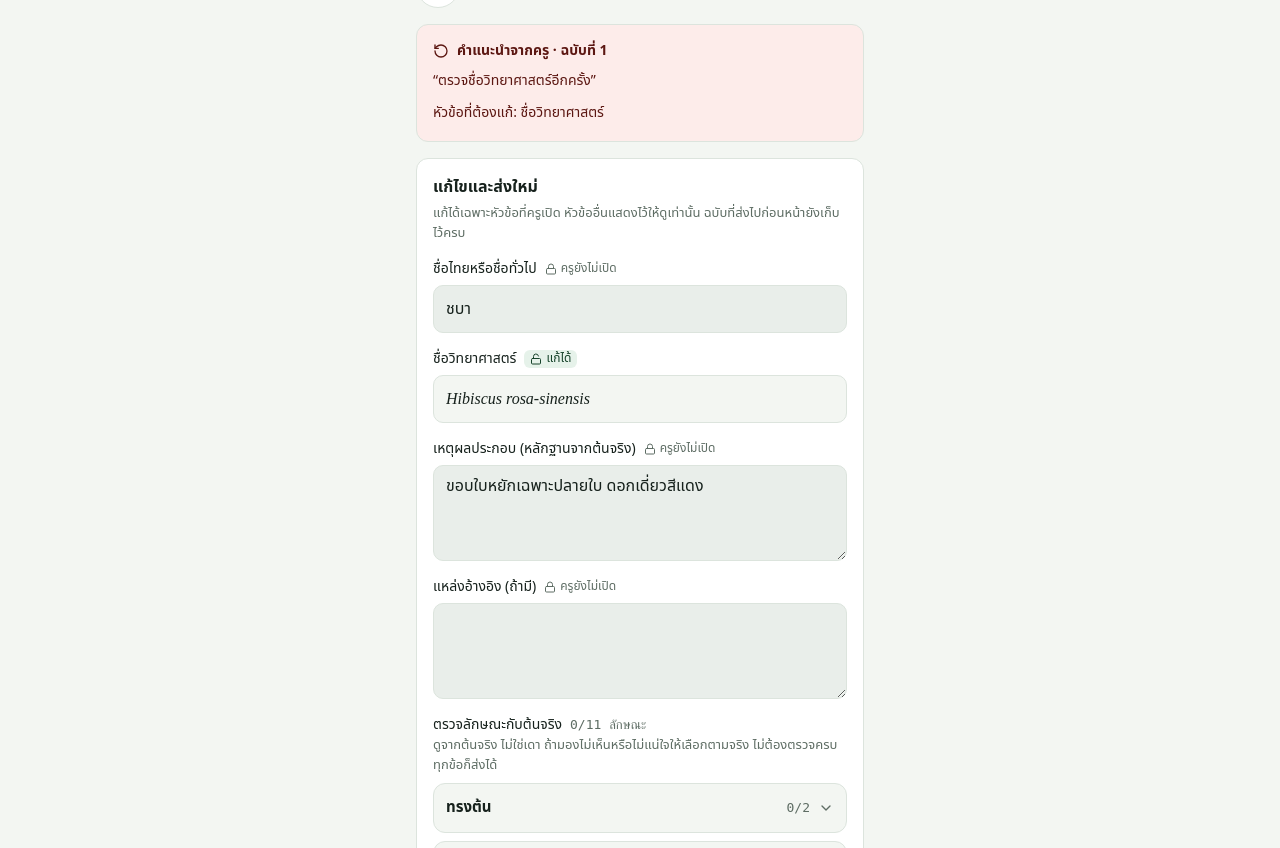
Test case: RevisionScreen › saves the revision, then resubmits once with one client submission ID
Replace the text in the field labelled "ชื่อวิทยาศาสตร์ แก้ได้" with "Hibiscus schizopetalus" at (640, 399), box [433,375,847,423]
(page scrolled)
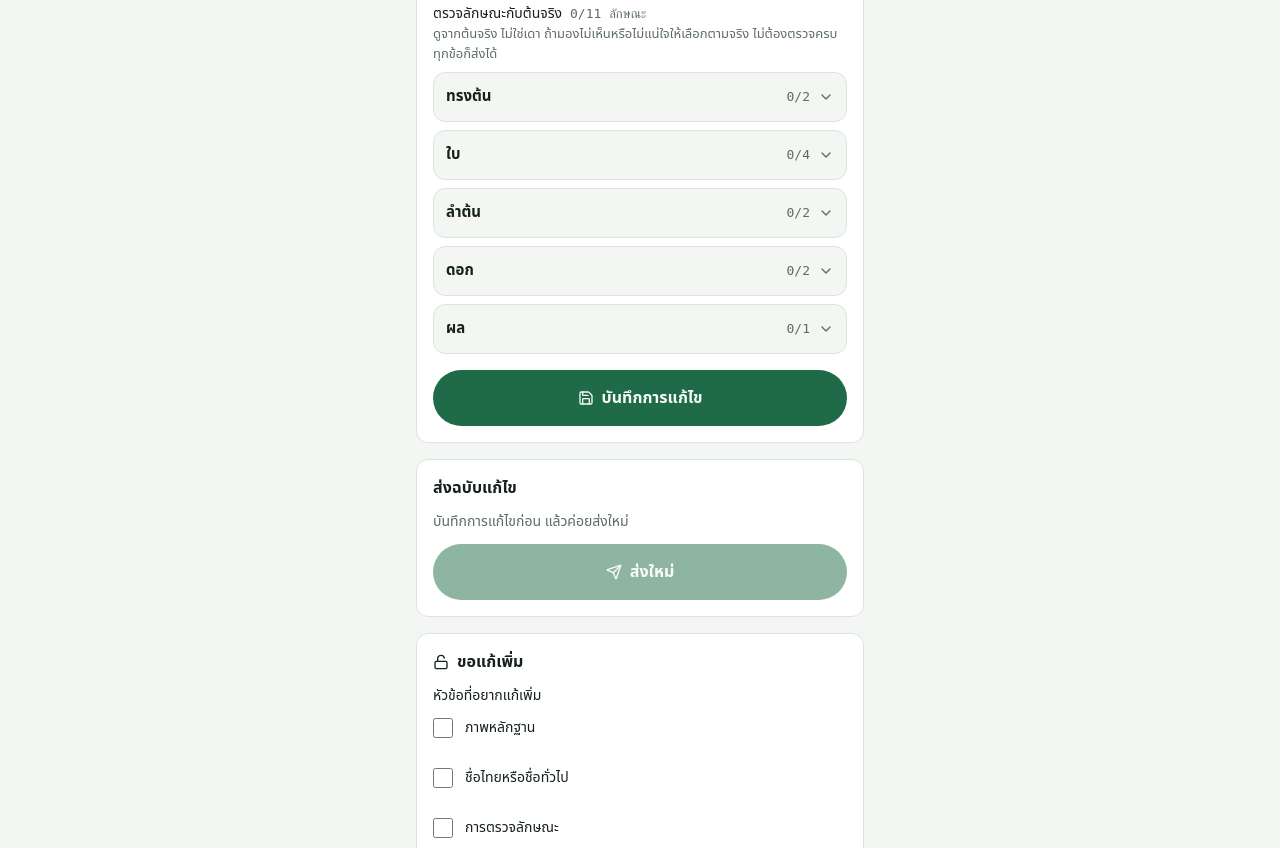
Expected: the text "บันทึกการแก้ไขก่อน แล้วค่อยส่งใหม่" is shown, [433,511,629,532]
Click the button "บันทึกการแก้ไข" at (640, 398), box [433,370,847,426]
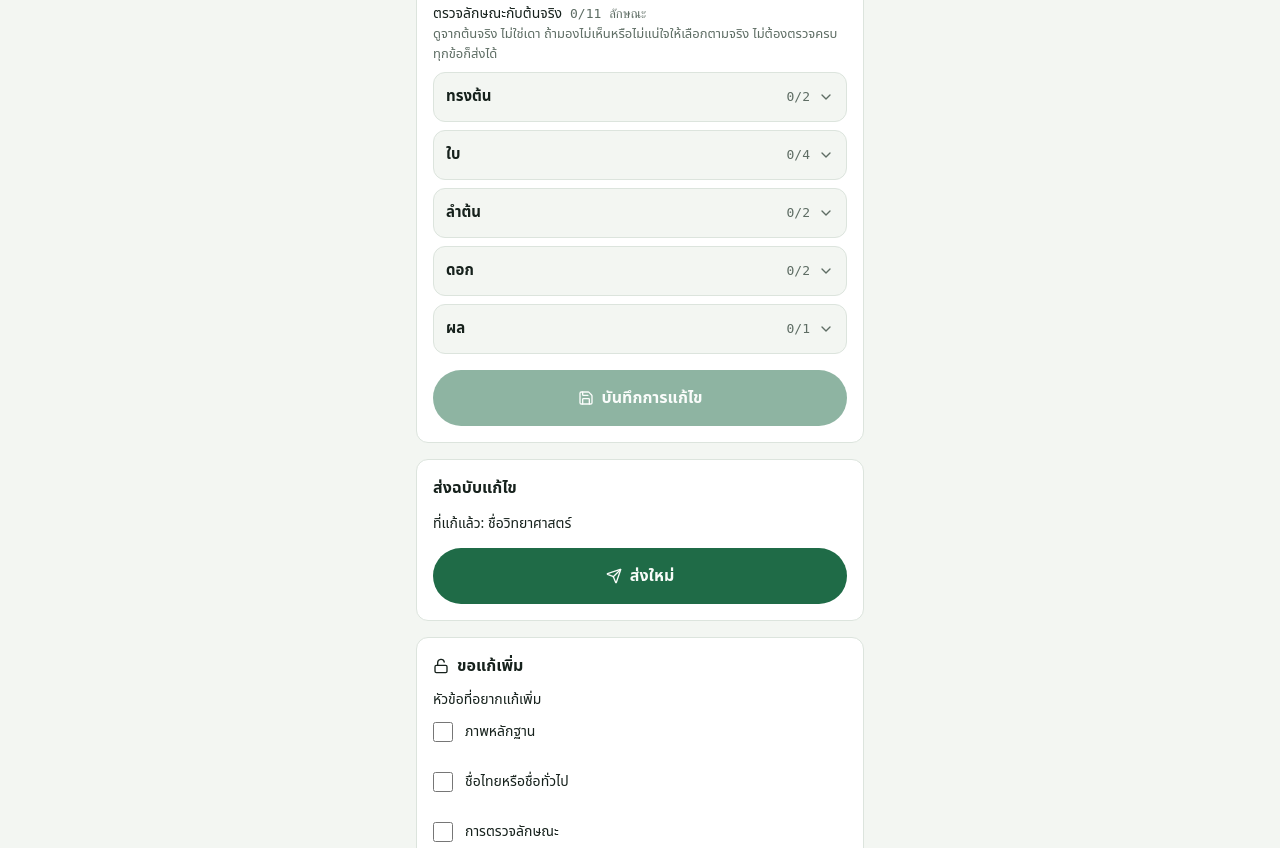
Expected: the text "ที่แก้แล้ว: ชื่อวิทยาศาสตร์" is shown, [433,513,571,534]
Click the button "ส่งใหม่" at (640, 576), box [433,548,847,604]
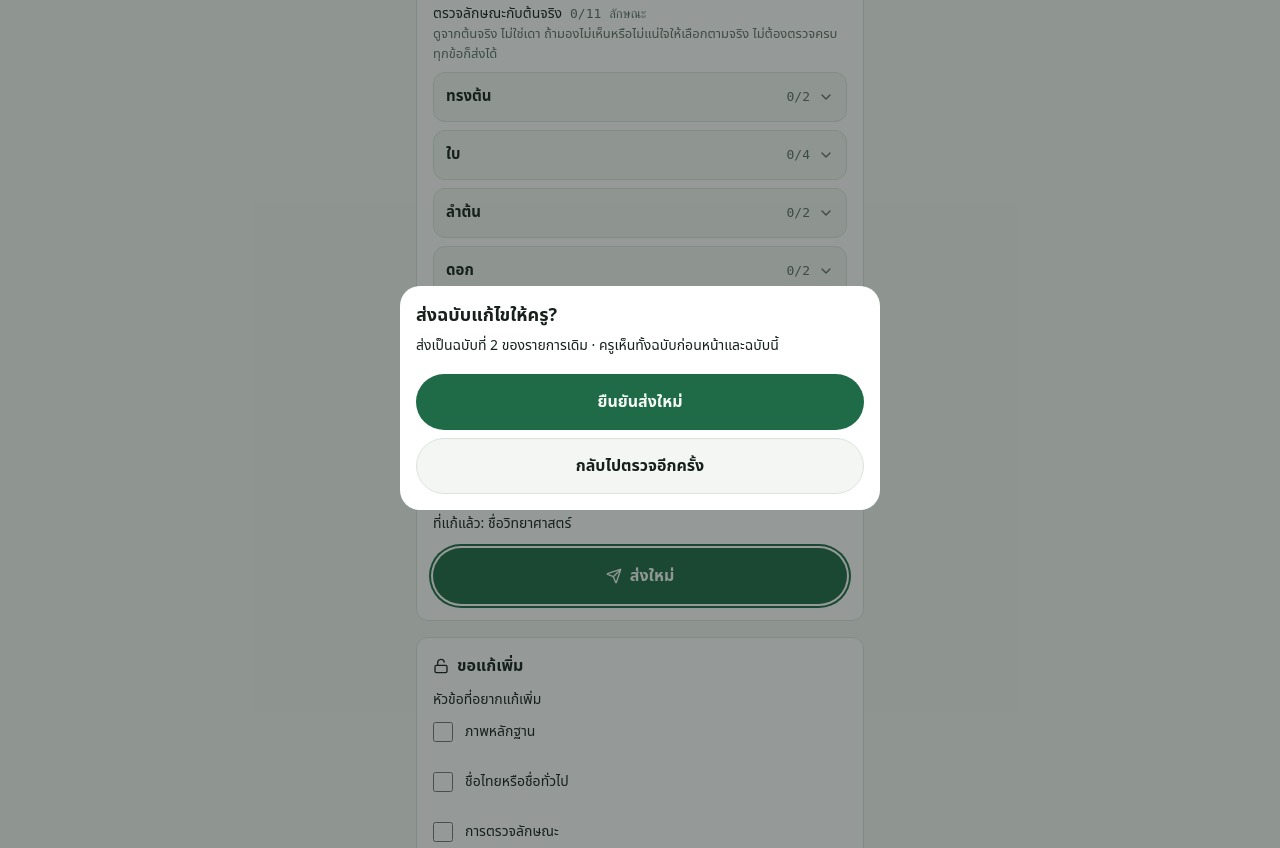
Click the button "ยืนยันส่งใหม่" at (640, 402), box [416,374,864,430]
(page scrolled)
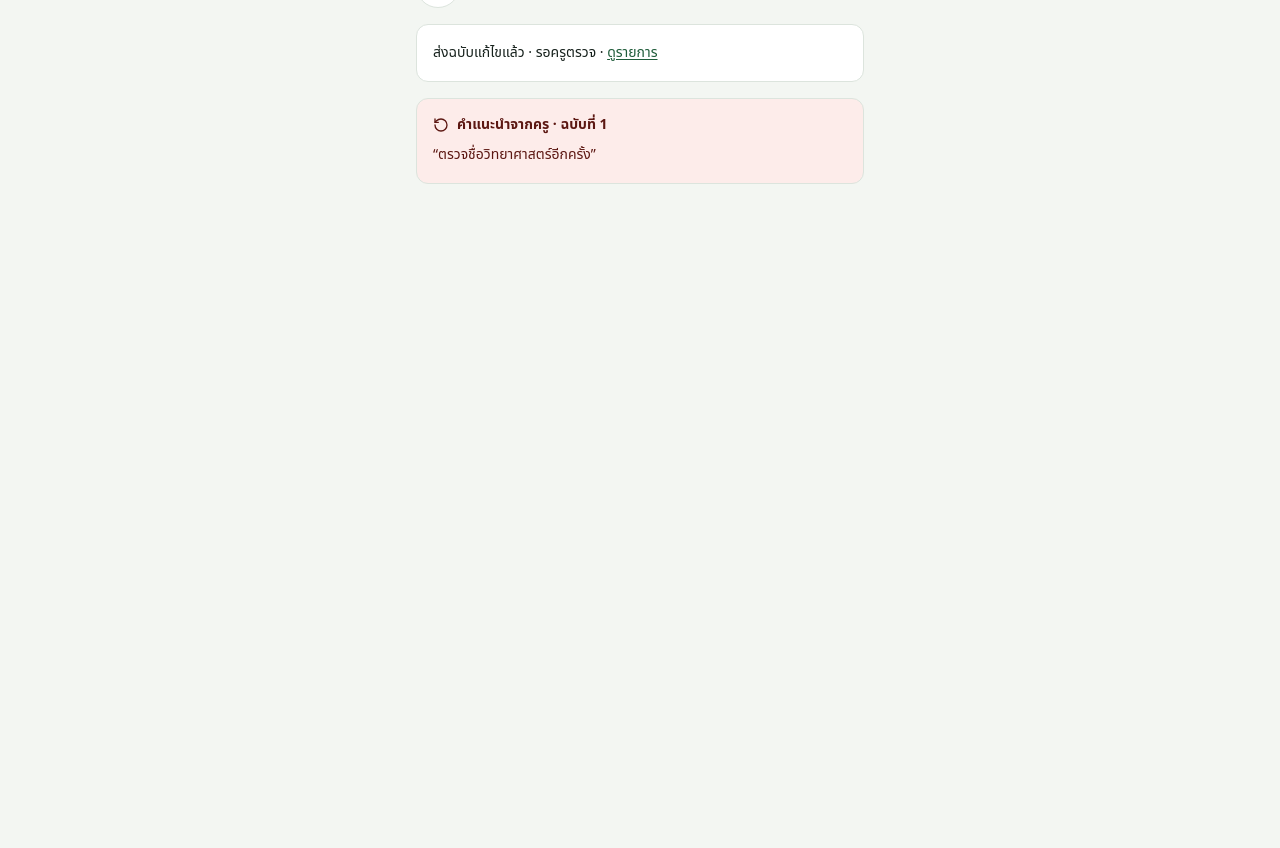
Expected: the text "ส่งฉบับแก้ไขแล้ว · รอครูตรวจ · ดูรายการ" is shown, [416,24,864,82]
